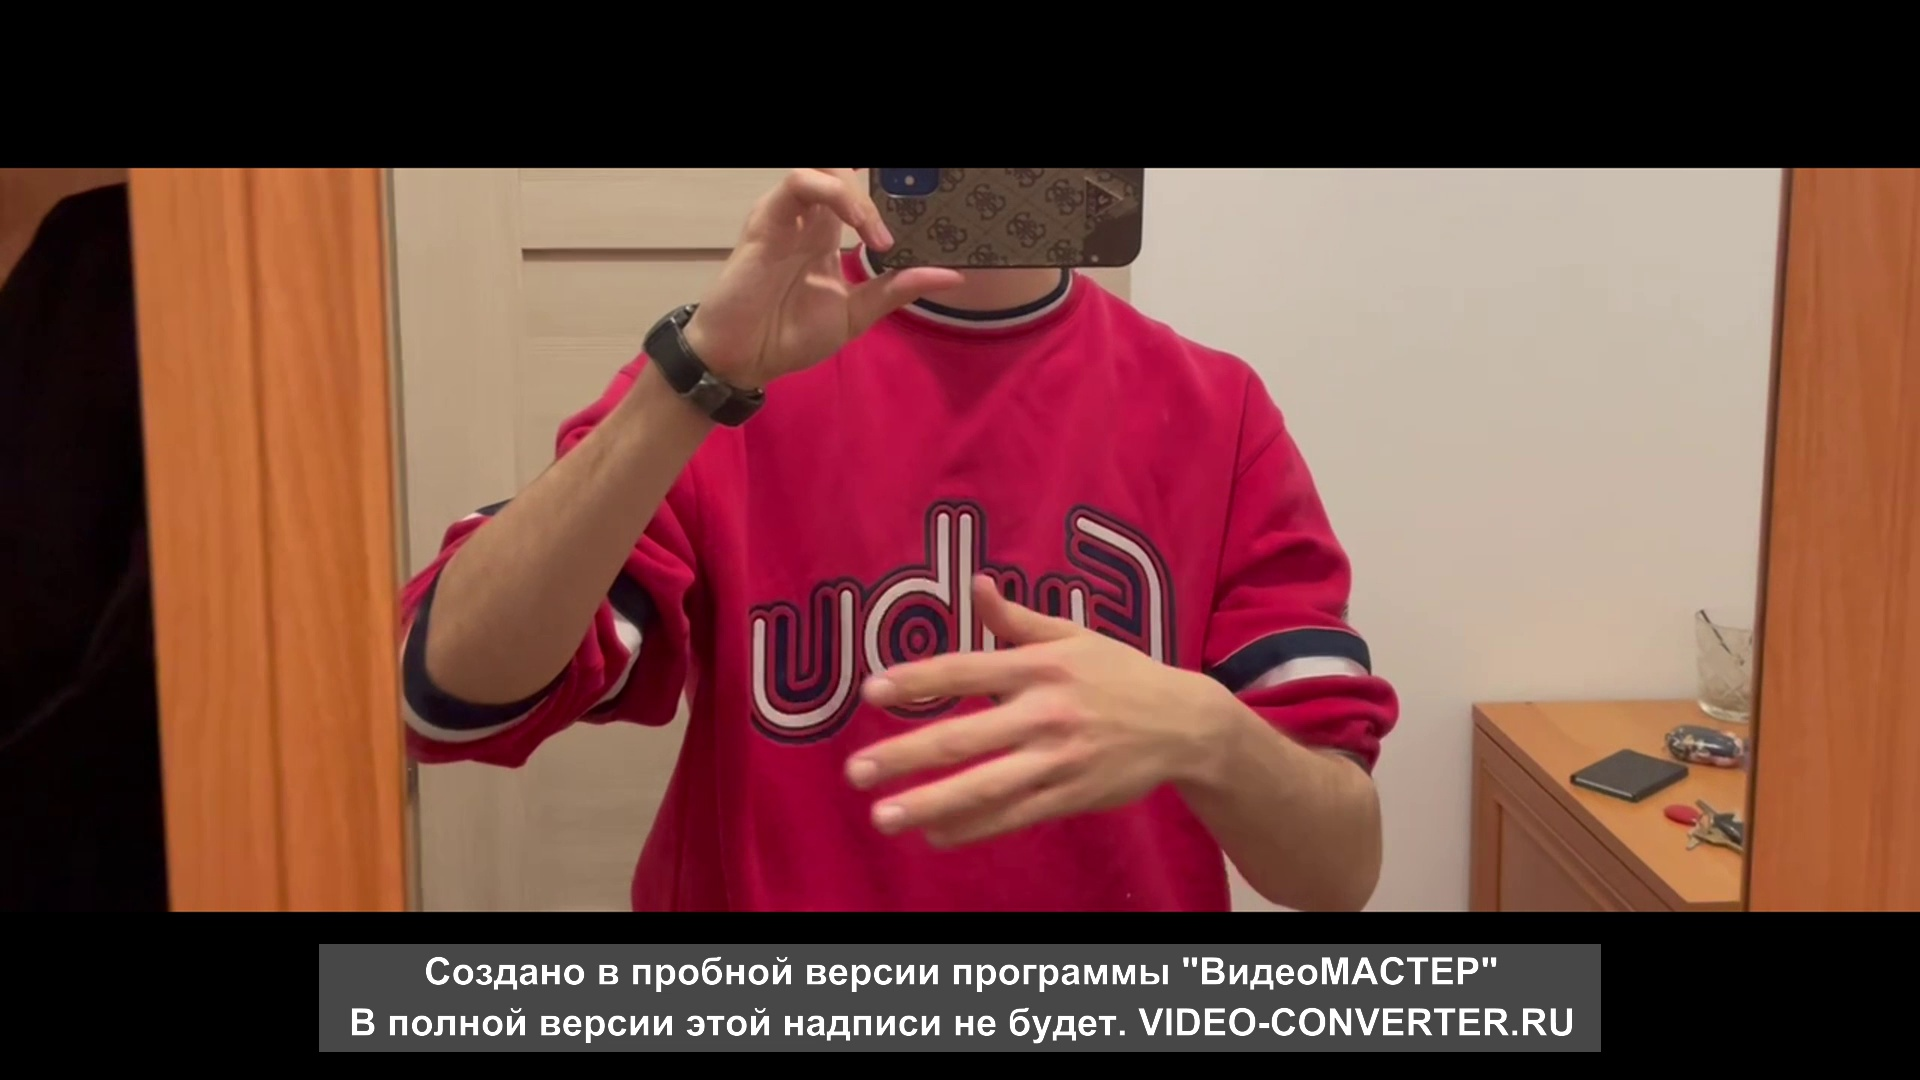Кисть: (844, 571, 1184, 848)
